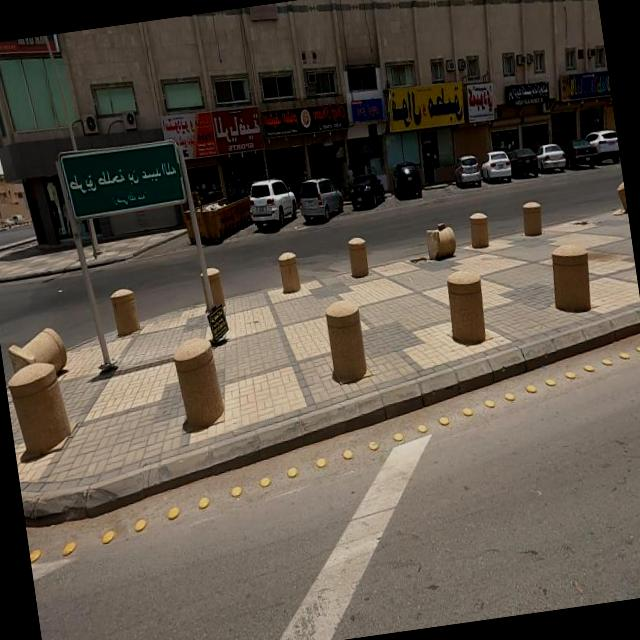debris: (0, 260, 113, 402), (386, 178, 485, 302)
